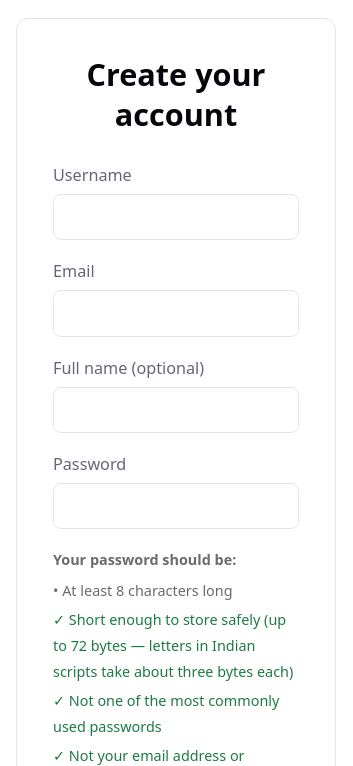
Scenario: RegisterPage password requirements › renders the server’s own rule messages when it rejects the password
In the field labelled "Username": (176, 217) [53, 194, 299, 240], type "sanakumari"
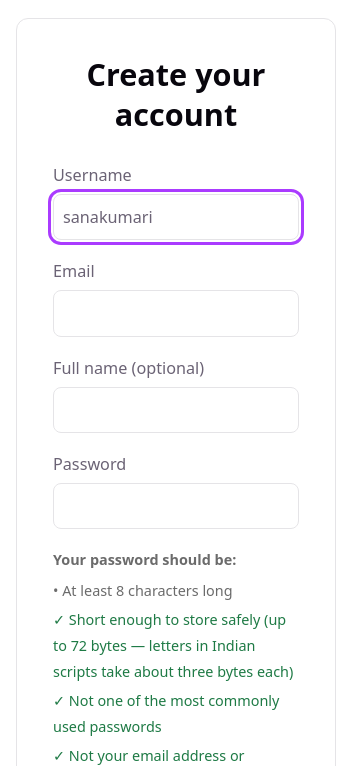
In the field labelled "Email": (176, 313) [53, 290, 299, 336], type "sana@example.com"
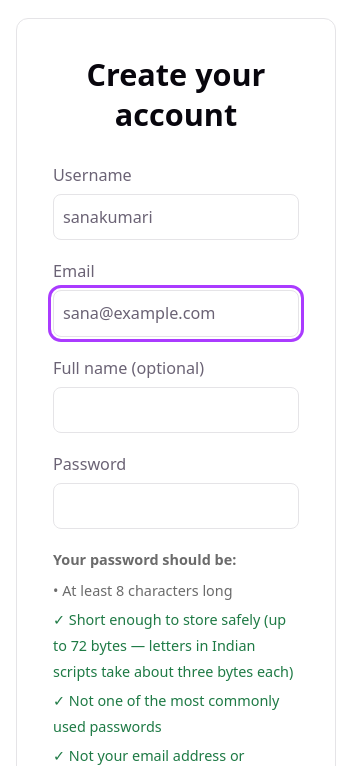
In the password field labelled "Password": (176, 506) [53, 483, 299, 530], type "kolkata-monsoon-77"
(page scrolled)
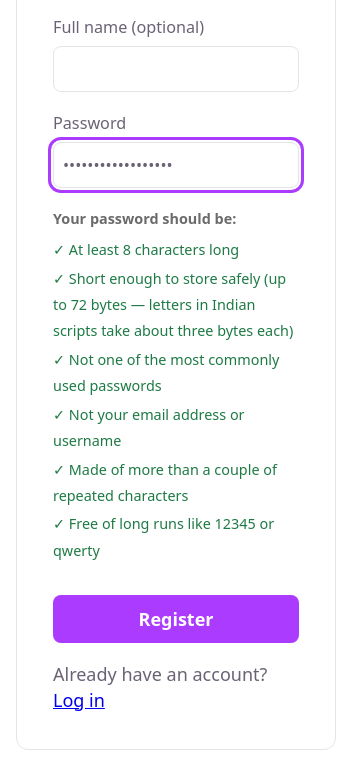
Click the button: (176, 619) [53, 595, 299, 643]
(page scrolled)
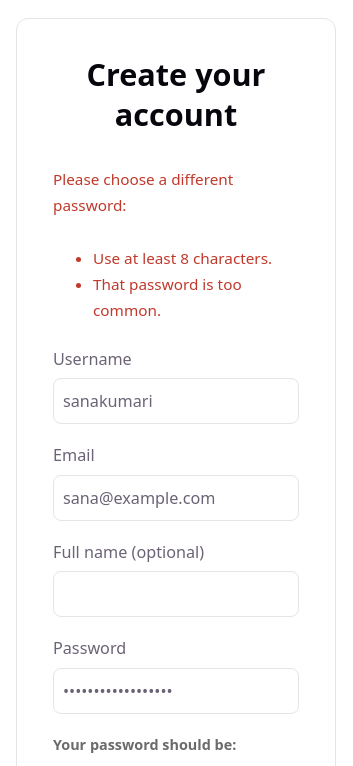
Result: the list item "Use at least 8 characters." is shown at [93, 245, 299, 271]
Result: the list item "That password is too common." is shown at [93, 274, 242, 320]
